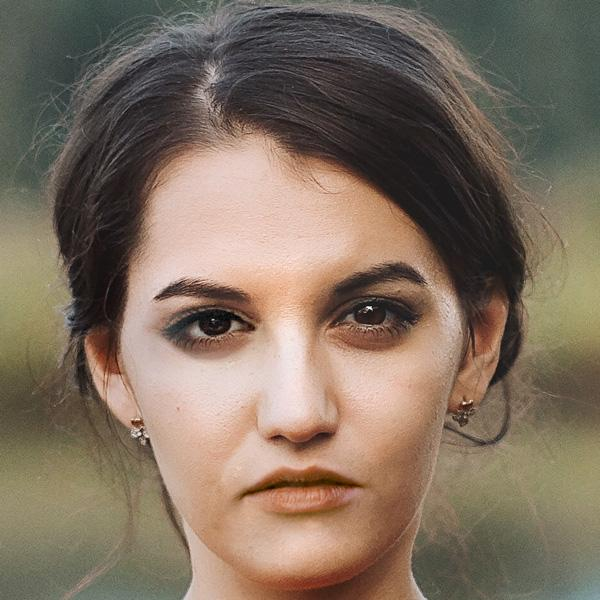Eyes: (157, 296, 262, 361), (320, 291, 424, 349)
